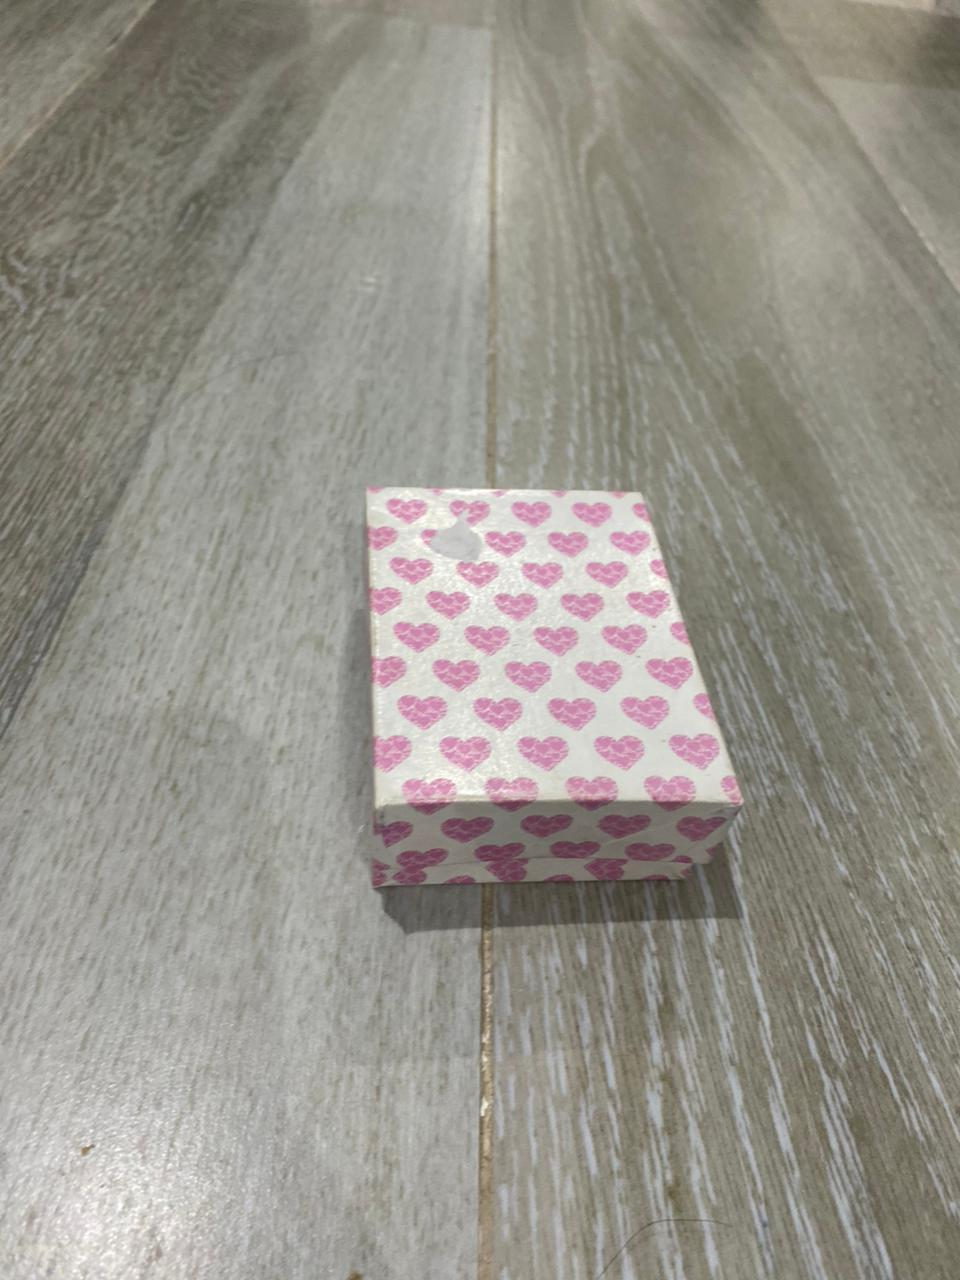Pink Box: (353, 479, 750, 901)
